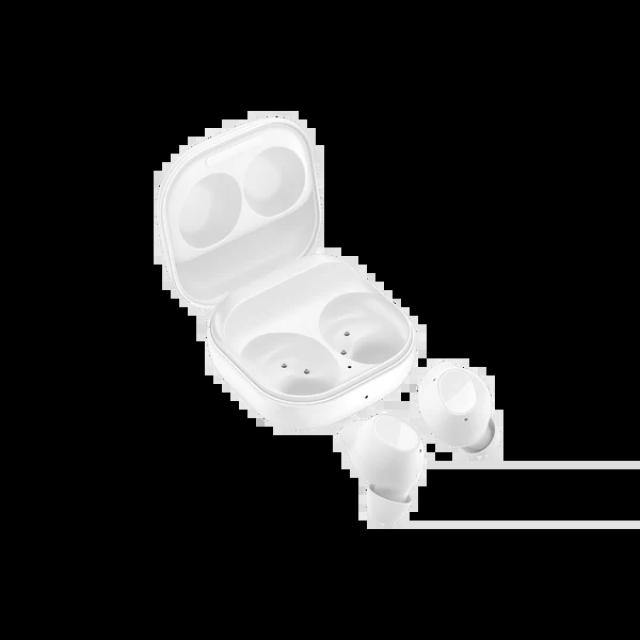headphones: (154, 112, 499, 526)
